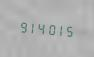five: (63, 21, 71, 39)
four: (36, 19, 44, 36)
nine: (17, 17, 25, 35)
one: (54, 20, 62, 38), (26, 18, 34, 35)
zero: (45, 19, 53, 37)
